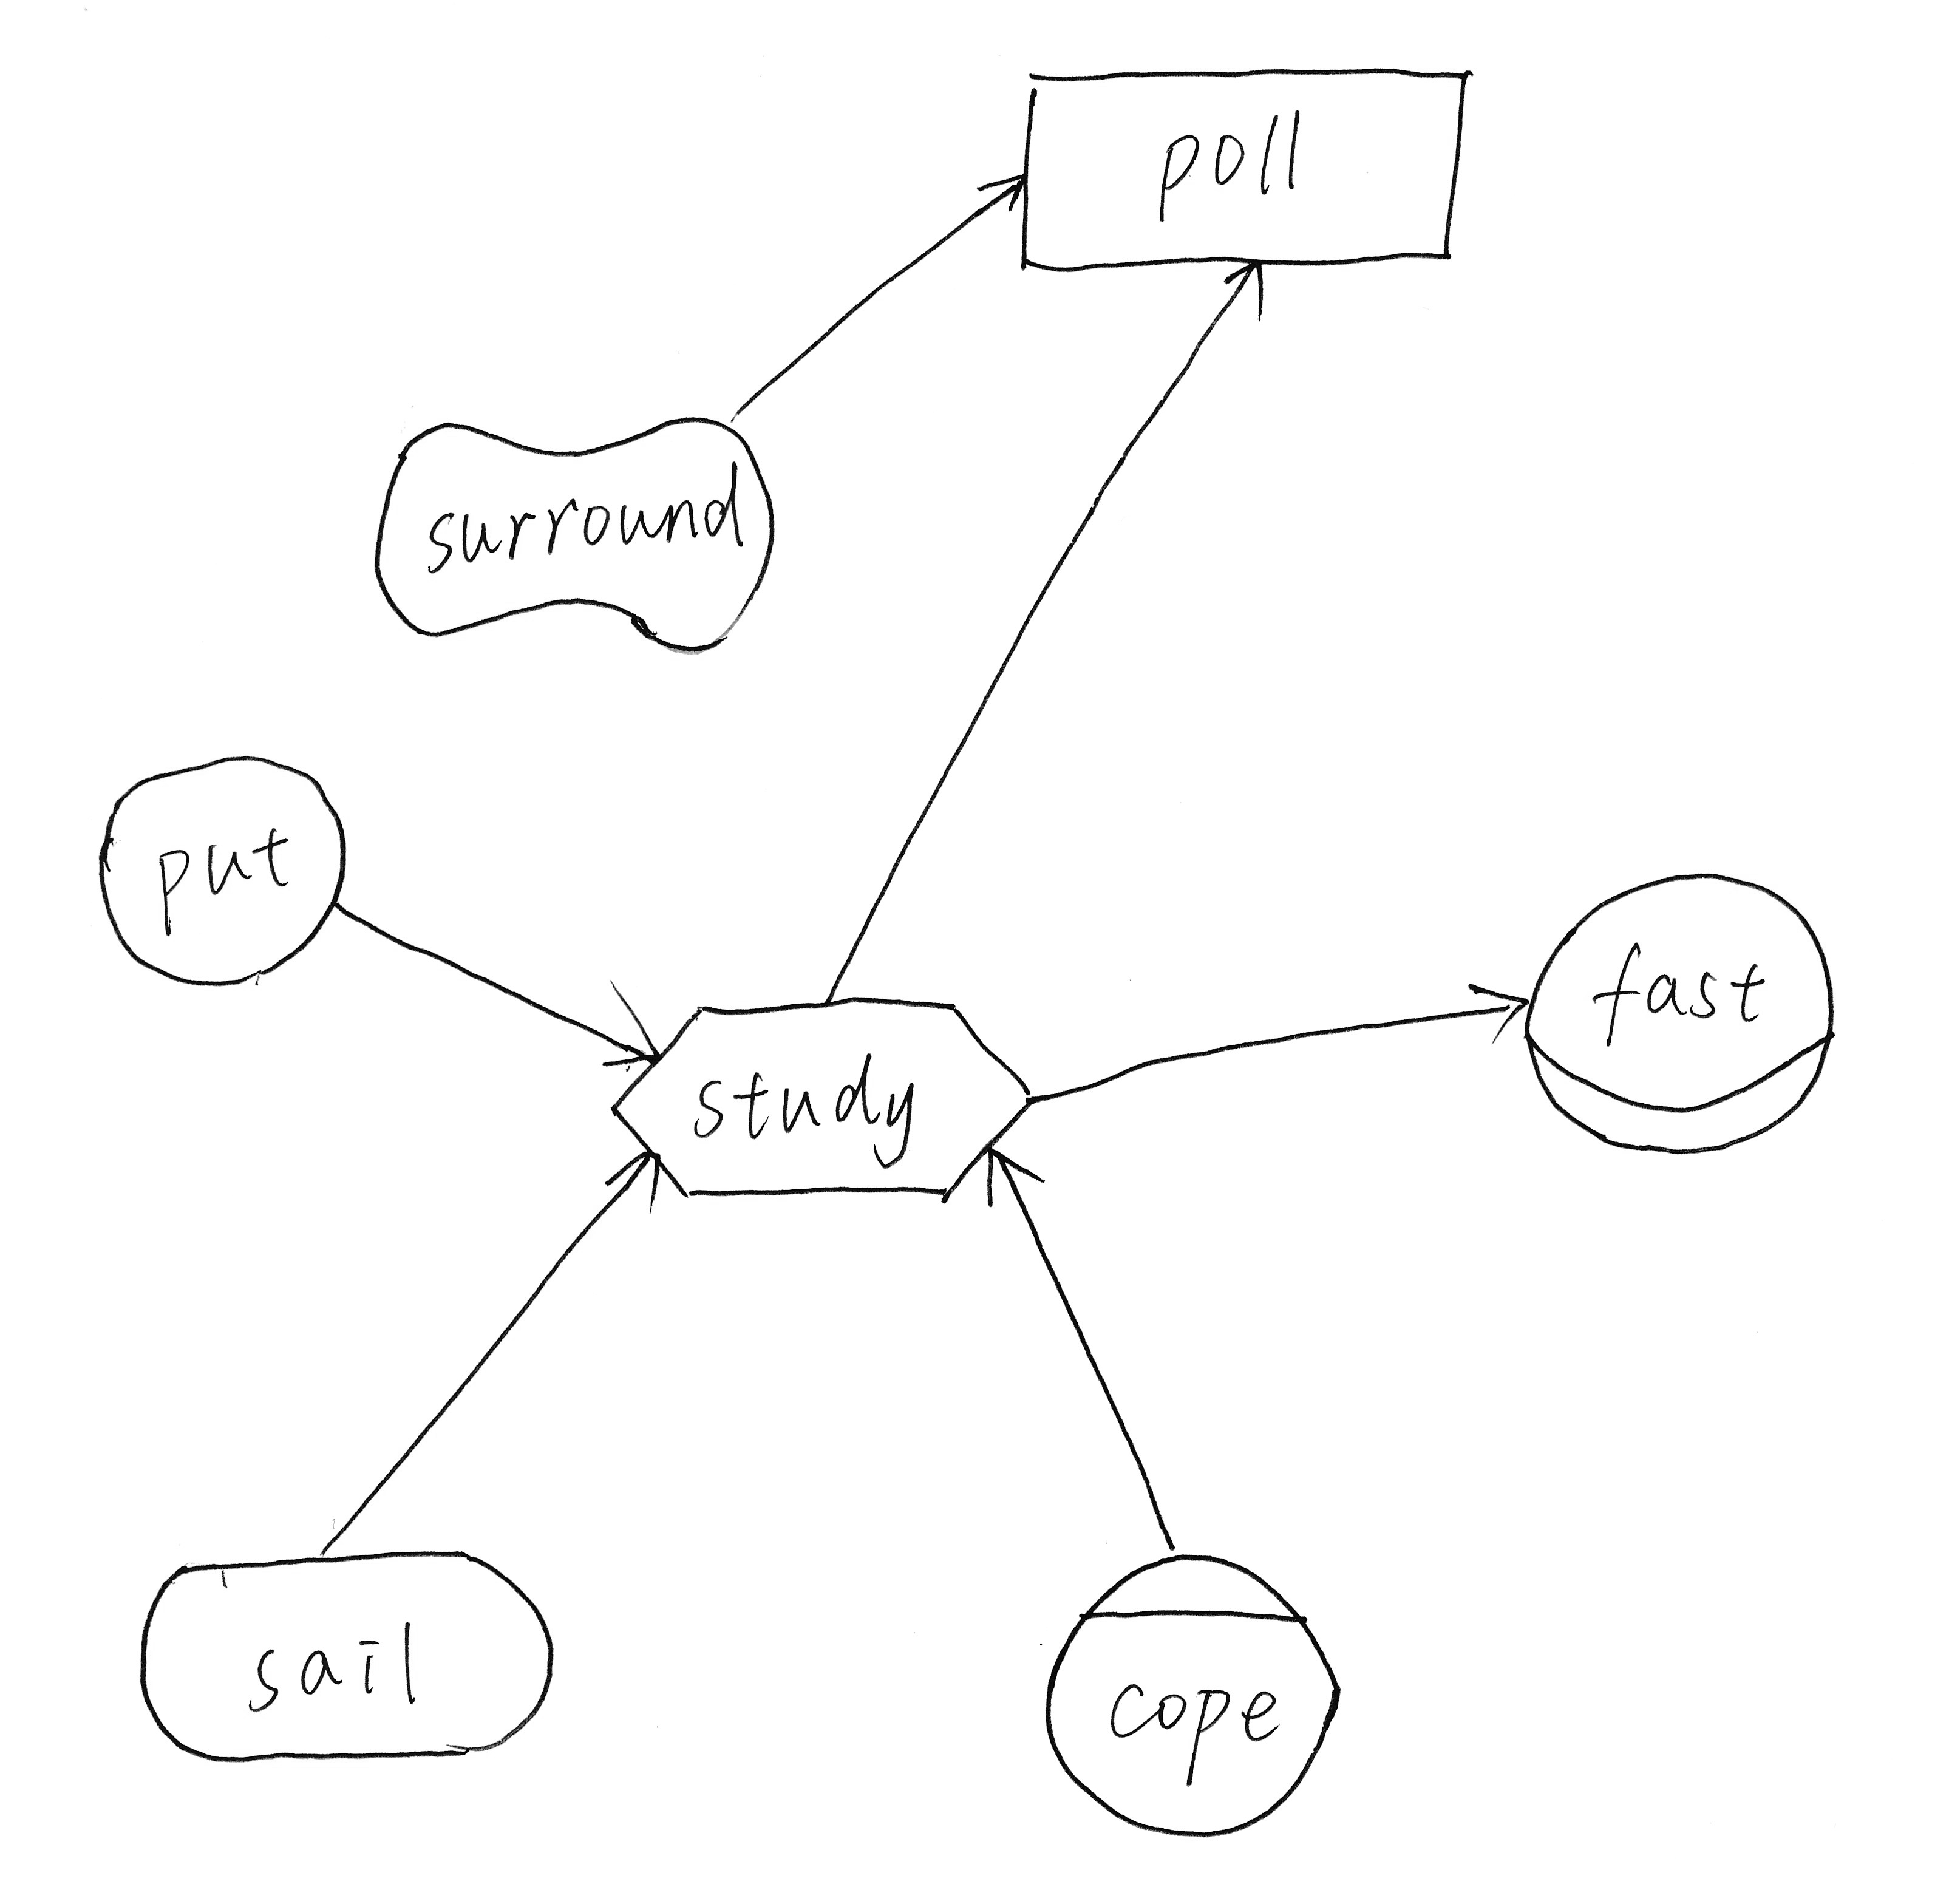actor: (78, 732, 364, 1010)
agent: (1023, 1526, 1363, 1862)
arrow: (577, 950, 676, 1093), (600, 1125, 687, 1233), (1203, 241, 1295, 342), (964, 1126, 1055, 1222), (1464, 952, 1543, 1051), (969, 152, 1041, 230)
goal: (115, 1527, 575, 1785)
quality: (352, 392, 797, 670)
resource: (994, 38, 1494, 298)
role: (1497, 846, 1864, 1179)
task: (593, 973, 1053, 1241)
